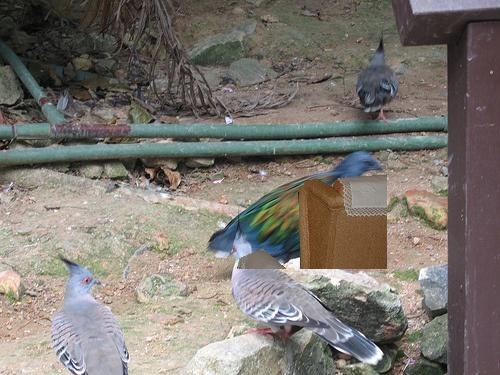tampered: (238, 175, 387, 269)
